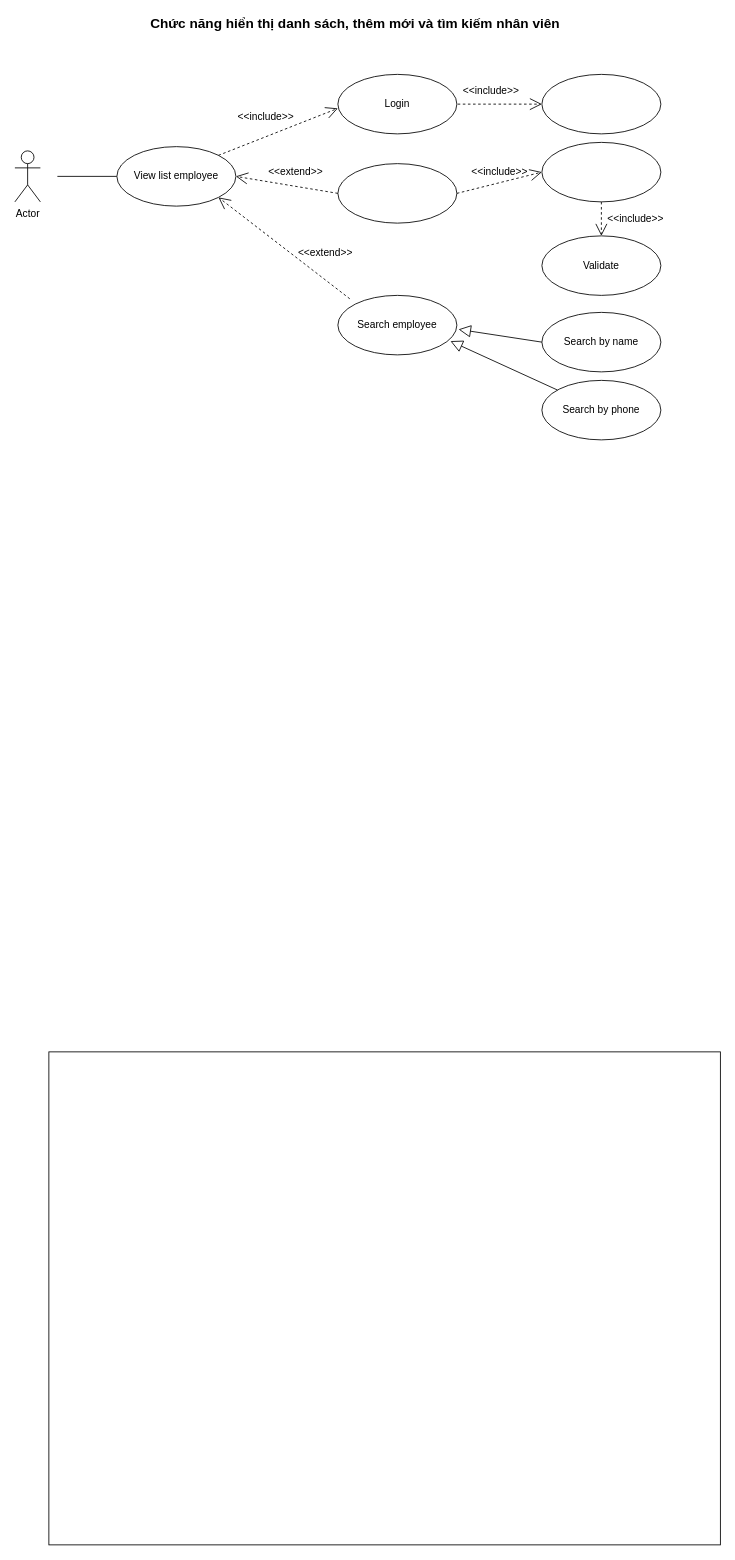
This 735x1560 diagram has some shape labels left out. The centre of each missing label's shape, as x and y in pixels:
"Add employee" goes at (397,193).
"Authorization , Authentication" goes at (601,104).
"Input info employee" goes at (601,172).
